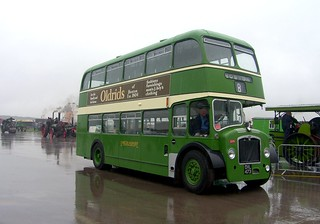bus: (75, 29, 272, 194)
